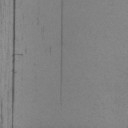surface scratch: (12, 0, 16, 114), (60, 0, 64, 84), (0, 114, 3, 120), (12, 116, 14, 123)
